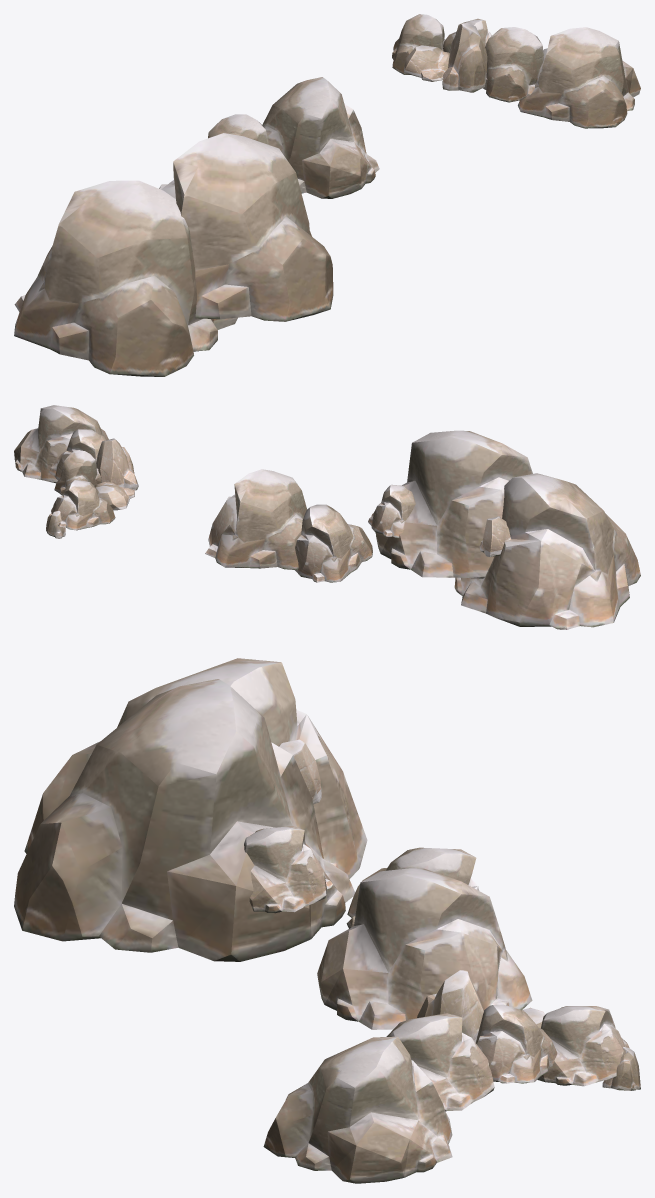
Rendered from pref_sm_beach_bk_winter_pointmol_rock_R01_lv2.fbx.
3 renders of one model, top to bottom at view 1: azimuth 30°, elevation 25°; view 2: azimuth 150°, elevation 25°; view 3: azimuth 270°, elevation 25°, orthographic. The views are drawn at different scales.
Parts seen in each view (by area): view 1: pref_sm_beach_bk_winter_pointmol_rock_R01_lv2; view 2: pref_sm_beach_bk_winter_pointmol_rock_R01_lv2; view 3: pref_sm_beach_bk_winter_pointmol_rock_R01_lv2.
Part boxes in pixels (x1,y1,x2,y2): pref_sm_beach_bk_winter_pointmol_rock_R01_lv2: (14,14,640,376); pref_sm_beach_bk_winter_pointmol_rock_R01_lv2: (14,405,640,629); pref_sm_beach_bk_winter_pointmol_rock_R01_lv2: (14,658,640,1183).
Size of the model in its own units: 33.53 by 7.89 by 18.46.
